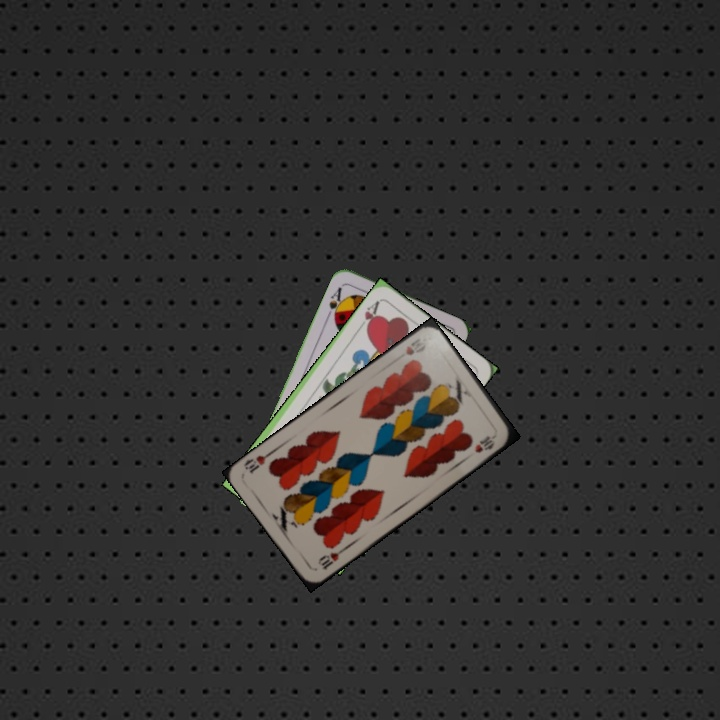H10: (313, 544, 348, 573), (401, 334, 429, 358)
HA: (355, 296, 382, 333)
SA: (324, 281, 348, 322)
